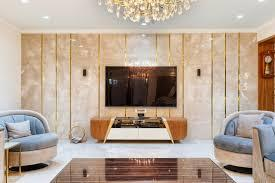TV: (105, 66, 182, 107)
chair: (0, 106, 62, 168), (213, 111, 275, 169), (250, 124, 275, 183)
clock: (262, 52, 275, 76)
console: (87, 115, 188, 147)
light: (96, 0, 194, 24), (232, 12, 249, 24), (78, 65, 90, 79), (194, 66, 206, 80), (136, 23, 151, 29), (39, 14, 49, 23), (140, 31, 147, 39)
table: (48, 154, 236, 183), (0, 141, 24, 183)
